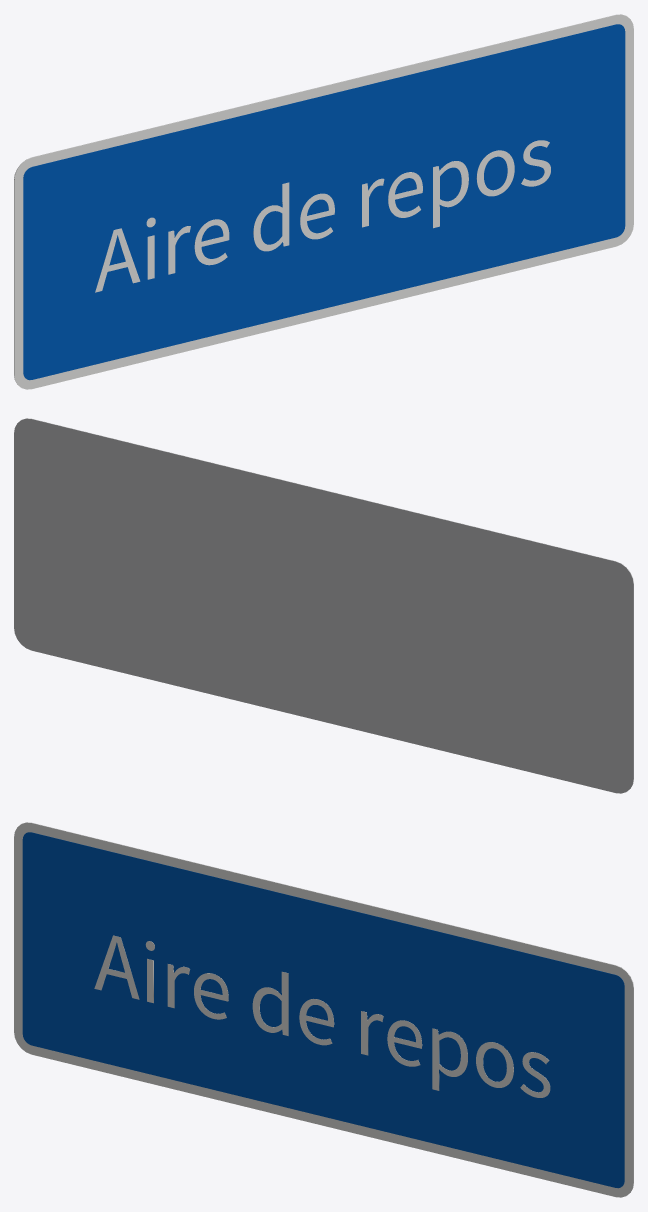
3 renders of one model, top to bottom at view 1: azimuth 30°, elevation 25°; view 2: azimuth 150°, elevation 25°; view 3: azimuth 330°, elevation 25°, orthographic.
Parts seen in each view (by area): view 1: E34b_fond01, E34b_cadre00, E34b_txt02, E34b_dos; view 2: E34b_dos; view 3: E34b_fond01, E34b_cadre00, E34b_txt02, E34b_dos.
Part boxes in pixels (x1,y1,x2,y2): E34b_fond01: [23, 24, 625, 380]; E34b_cadre00: [14, 14, 633, 389]; E34b_txt02: [95, 140, 550, 292]; E34b_dos: [14, 14, 622, 384]; E34b_dos: [14, 418, 633, 793]; E34b_fond01: [22, 832, 624, 1188]; E34b_cadre00: [14, 822, 633, 1197]; E34b_txt02: [94, 935, 550, 1097]; E34b_dos: [25, 822, 633, 1192].
Size of the model in its own units: 1.4 by 0.5 by 0.0025.
